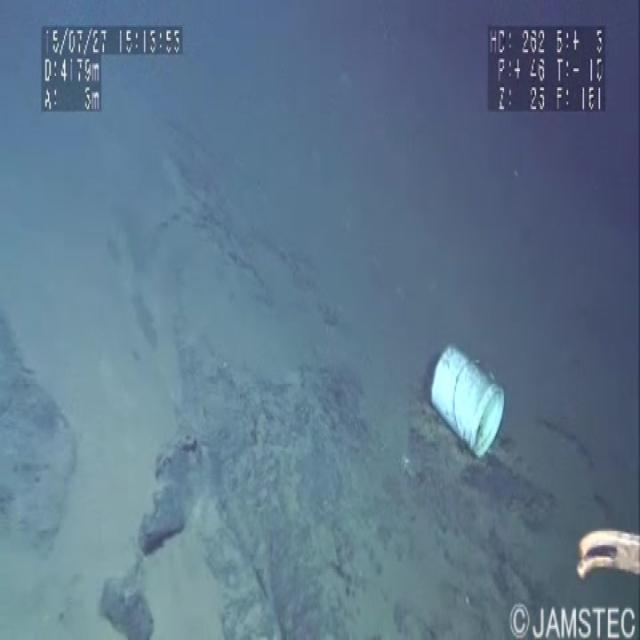Metal: (424, 323, 514, 474)
